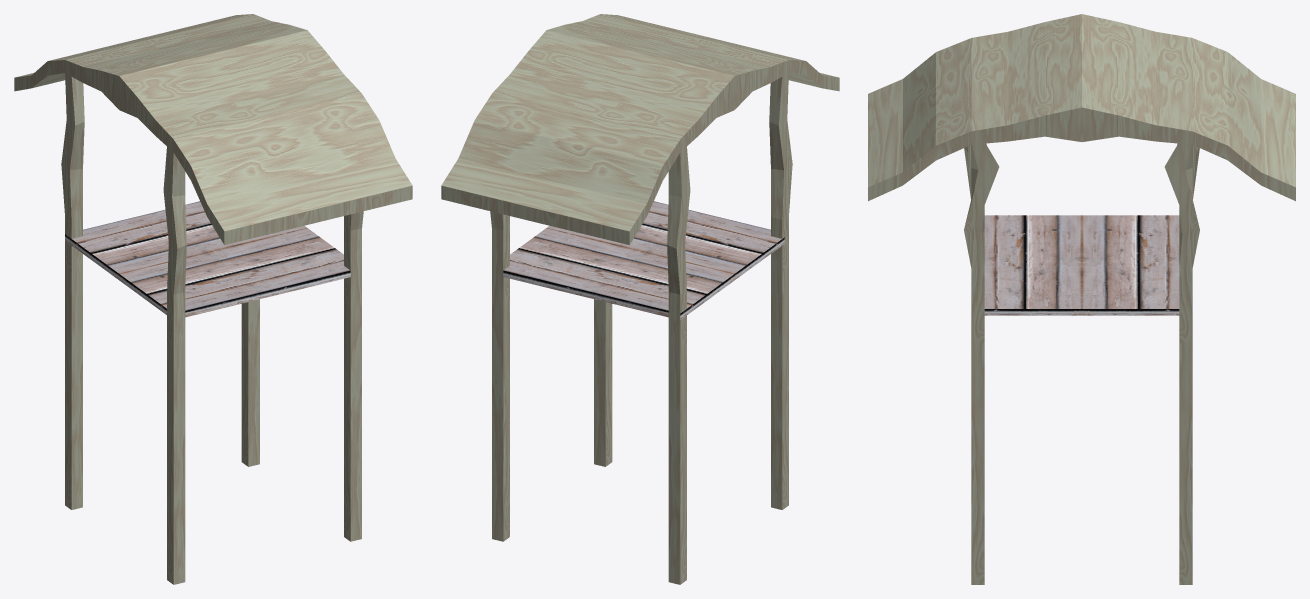
3 renders of one model, left to right at view 1: azimuth 30°, elevation 25°; view 2: azimuth 150°, elevation 25°; view 3: azimuth 270°, elevation 25°, orthographic.
Visible parts, largest first — view 1: brid013_woodsemwhite_0, brid013_woodboard_0; view 2: brid013_woodsemwhite_0, brid013_woodboard_0; view 3: brid013_woodsemwhite_0, brid013_woodboard_0.
Boxes of the visible parts, <box> form: brid013_woodsemwhite_0: <box>14,14,412,584</box>; brid013_woodboard_0: <box>65,201,350,317</box>; brid013_woodsemwhite_0: <box>441,14,839,584</box>; brid013_woodboard_0: <box>503,201,785,319</box>; brid013_woodsemwhite_0: <box>868,14,1295,584</box>; brid013_woodboard_0: <box>984,215,1179,315</box>.
Size of the model in its own units: 3 by 7.14 by 5.8.
Materials: 2 (2 with a texture image).
